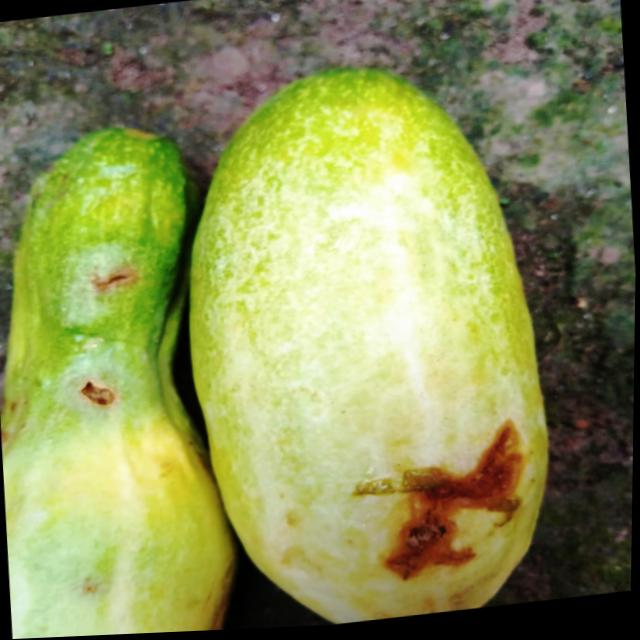Belly-Rot: (344, 403, 536, 605), (89, 254, 143, 302), (78, 367, 125, 415), (85, 576, 99, 597)
